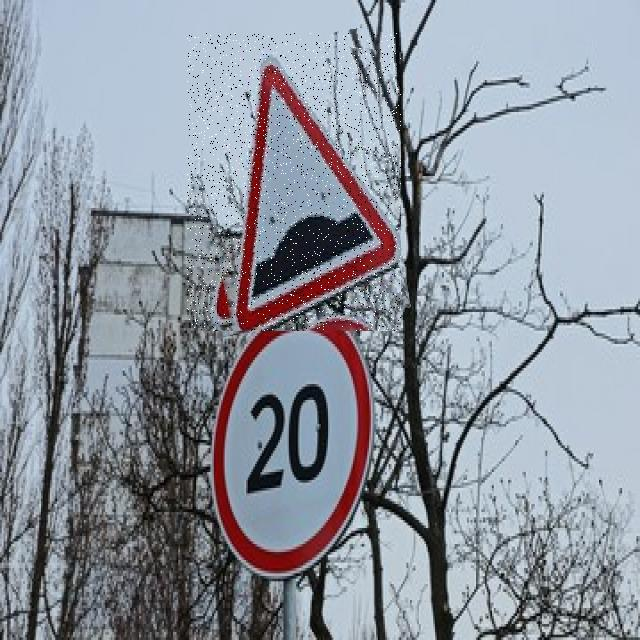hump: (187, 33, 401, 331)
